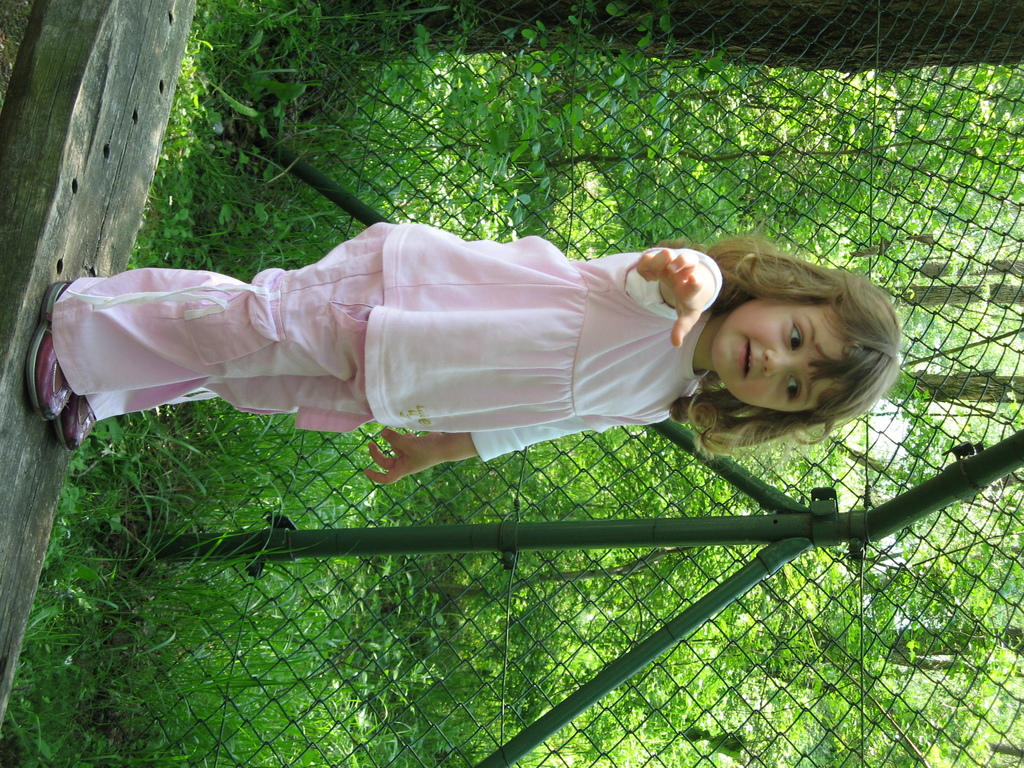face: (705, 299, 857, 410)
